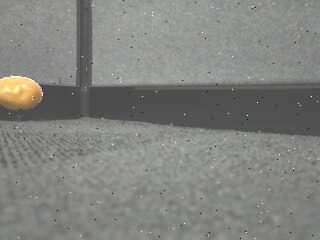Potato: (0, 75, 44, 110)
